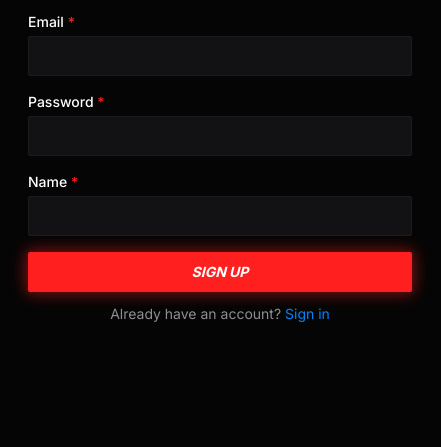
it: SignUpForm › shows a retry message when signup throws, then accepts another attempt
The width and height of the screenshot is (441, 447).
Type "member@example.com" into the field labelled "Email" at (220, 56), box [28,36,412,76]
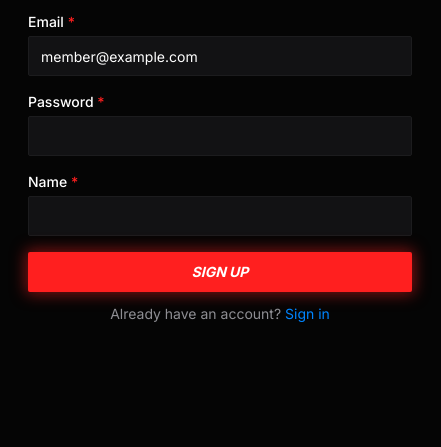
Type "strong-password-123" into the password field labelled "Password *" at (220, 136), box [28,116,412,156]
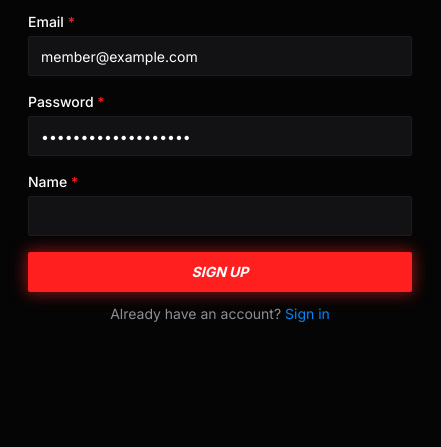
Type "Test Member" into the field labelled "Name" at (220, 216), box [28,196,412,236]
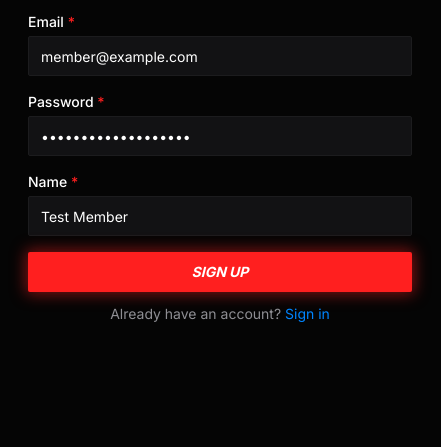
Click the button "Sign up" at (220, 272), box [28,252,412,292]
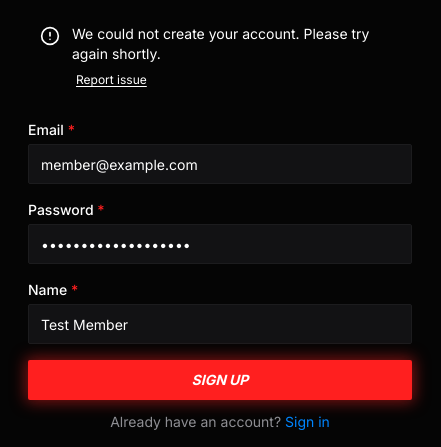
Result: the text "We could not create your account. Please try again shortly." is shown at [72,24,400,64]
Click the button "Sign up" at (220, 380), box [28,360,412,400]
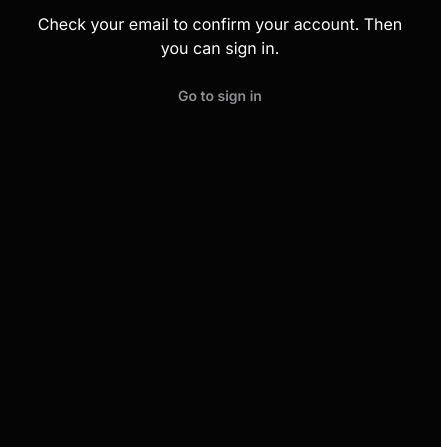
Result: the text "Check your email to confirm your account" is shown at [38,14,402,58]
